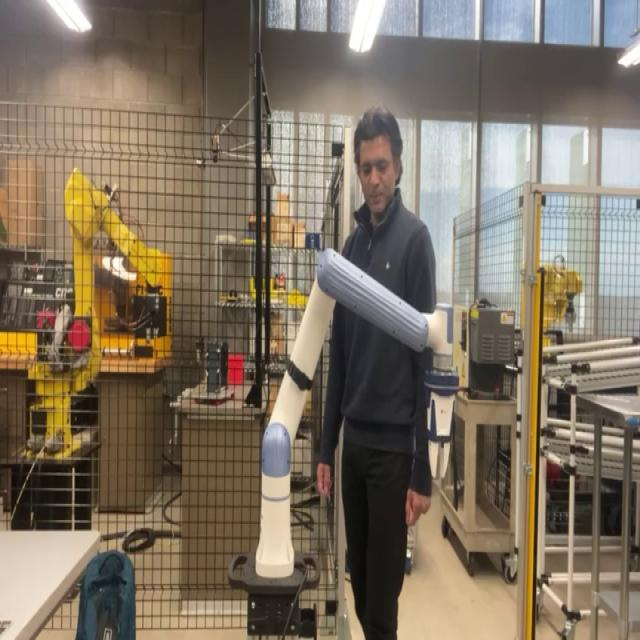robot: (251, 242, 468, 584)
